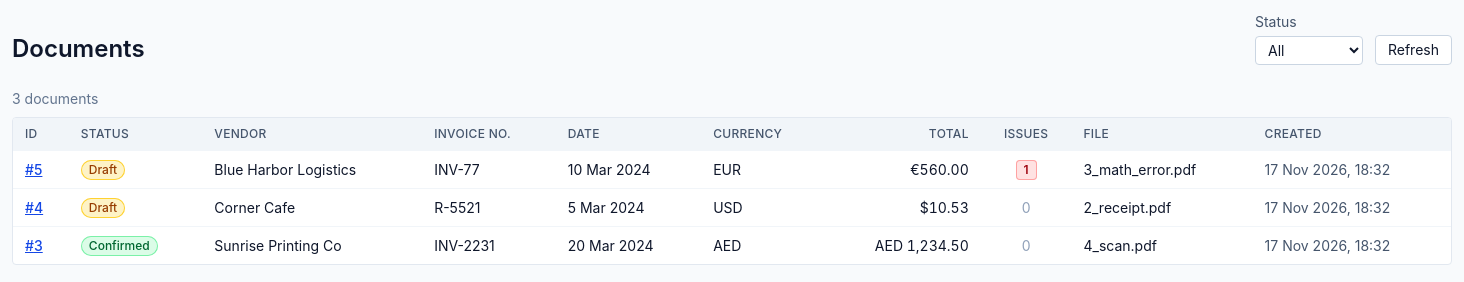
Documents page › status filter › changes the request and the URL
Expected: the text "Sunrise Printing Co" is shown, [202,226,422,264]
Select "Draft" in the dropdown labelled "Status" at [1309, 50], box [1255,36,1363,65]
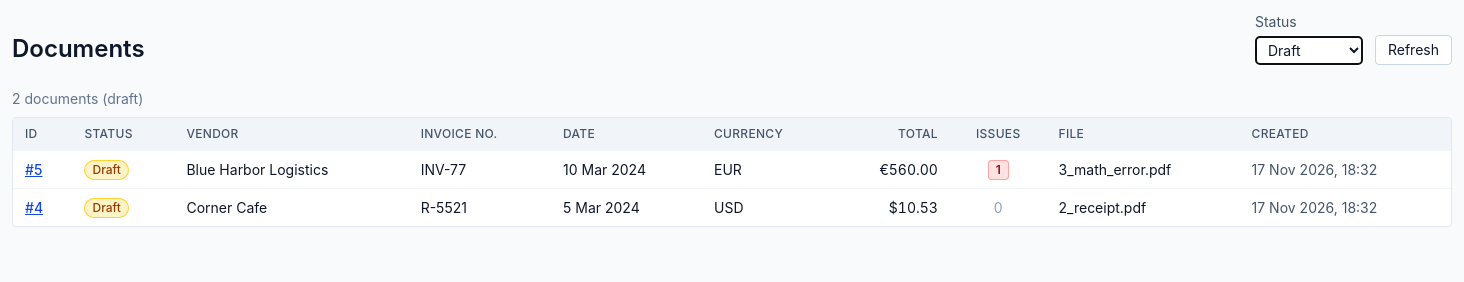
Expected: the text "Corner Cafe" is shown, [174,188,409,226]
Expected: the text "Sunrise Printing Co" is gone
Expected: the text "2 documents (draft)" is shown, [12,90,143,107]
Select "All" in the dropdown labelled "Status" at [1309, 50], box [1255,36,1363,65]
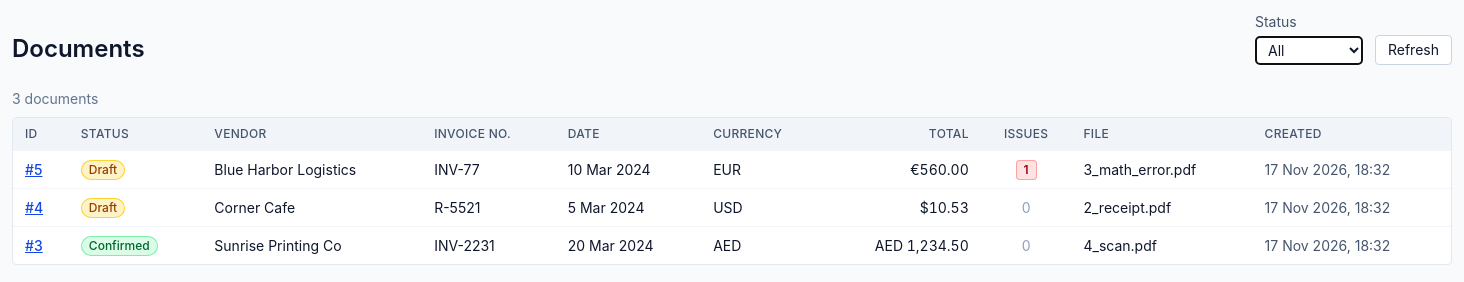
Expected: the text "Sunrise Printing Co" is shown, [202,226,422,264]
